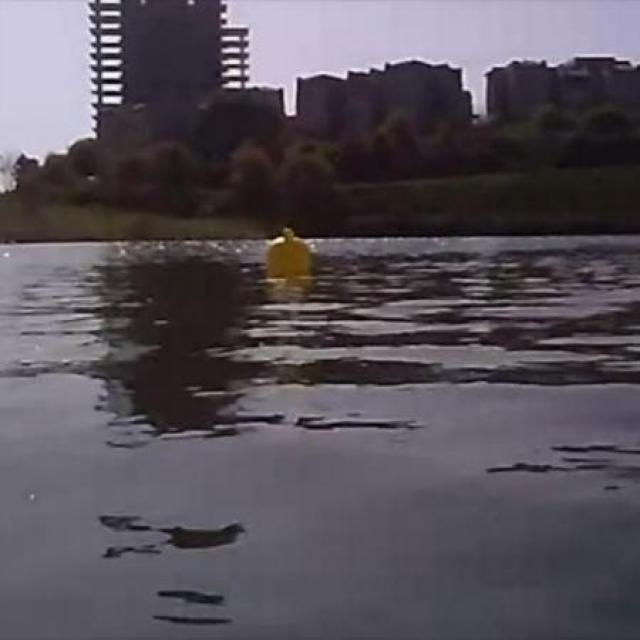buoy: (265, 229, 312, 272)
